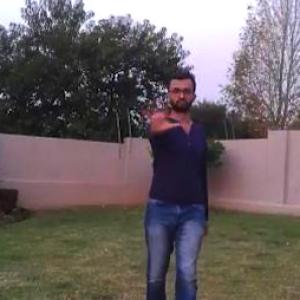follow_hand: (139, 88, 181, 140)
